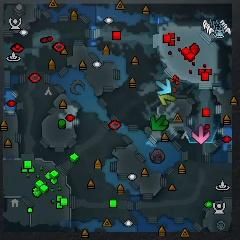x1: (192, 125, 210, 145)
x2: (158, 94, 177, 106)
x3: (155, 80, 172, 94)
x4: (150, 115, 167, 130)
x5: (161, 79, 177, 92)
